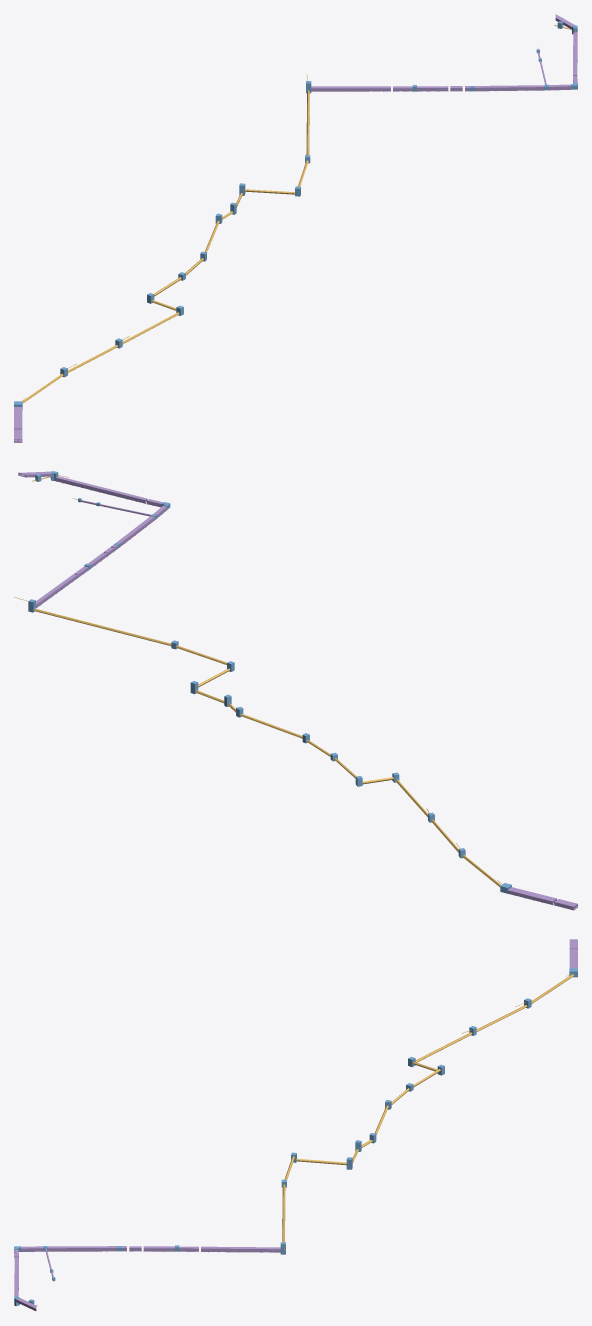
The model's file is 500125-CSSP001-780-XX-MD-ST-000343.glb.
The picture shows the model from 3 angles, top to bottom: view 1: azimuth 90°, elevation 25°; view 2: azimuth 150°, elevation 25°; view 3: azimuth 270°, elevation 25°; orthographic projection. The views are drawn at different scales.
Parts seen in each view (by area): view 1: 500125-CSSP001-780-XX-MD-ST-000343#BOX002, 500125-CSSP001-780-XX-MD-ST-000343#BOX003, 500125-CSSP001-780-XX-MD-ST-000343#TUB003; view 2: 500125-CSSP001-780-XX-MD-ST-000343#BOX003, 500125-CSSP001-780-XX-MD-ST-000343#TUB005, 500125-CSSP001-780-XX-MD-ST-000343#TUB006, 500125-CSSP001-780-XX-MD-ST-000343#BOX002, 500125-CSSP001-780-XX-MD-ST-000343#BOX001, 500125-CSSP001-780-XX-MD-ST-000343#TUB003; view 3: 500125-CSSP001-780-XX-MD-ST-000343#BOX002, 500125-CSSP001-780-XX-MD-ST-000343#BOX003, 500125-CSSP001-780-XX-MD-ST-000343#TUB003, 500125-CSSP001-780-XX-MD-ST-000343#TUB005.
Boxes of the visible parts, x1,y1,x2,y2 form: 500125-CSSP001-780-XX-MD-ST-000343#BOX002: [311, 86, 470, 91]; 500125-CSSP001-780-XX-MD-ST-000343#BOX003: [474, 32, 577, 91]; 500125-CSSP001-780-XX-MD-ST-000343#TUB003: [22, 300, 179, 403]; 500125-CSSP001-780-XX-MD-ST-000343#BOX003: [56, 476, 167, 546]; 500125-CSSP001-780-XX-MD-ST-000343#TUB005: [195, 668, 356, 778]; 500125-CSSP001-780-XX-MD-ST-000343#TUB006: [34, 608, 226, 664]; 500125-CSSP001-780-XX-MD-ST-000343#BOX002: [36, 544, 117, 608]; 500125-CSSP001-780-XX-MD-ST-000343#BOX001: [507, 887, 577, 910]; 500125-CSSP001-780-XX-MD-ST-000343#TUB003: [362, 777, 501, 887]; 500125-CSSP001-780-XX-MD-ST-000343#BOX002: [121, 1246, 280, 1252]; 500125-CSSP001-780-XX-MD-ST-000343#BOX003: [14, 1246, 117, 1295]; 500125-CSSP001-780-XX-MD-ST-000343#TUB003: [413, 974, 574, 1071]; 500125-CSSP001-780-XX-MD-ST-000343#TUB005: [296, 1069, 440, 1165].
Bounding box in the file's own units: 547 × 20.37 × 328.
